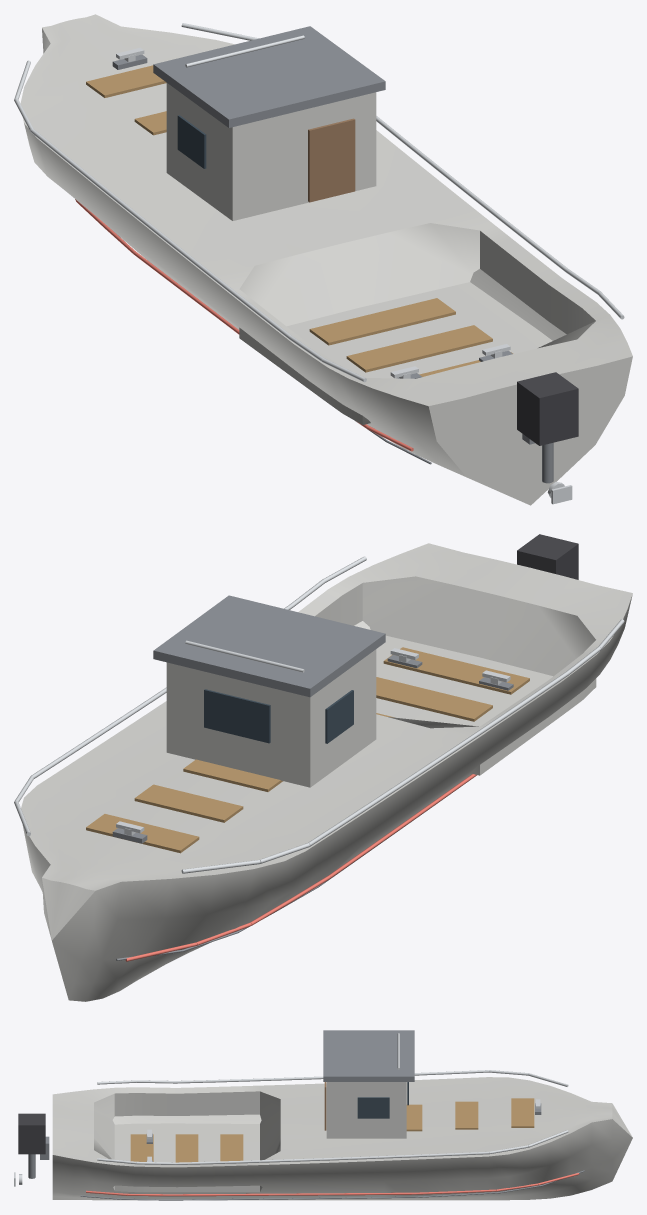
The model's file is FishingBoat.fbx.
The picture shows the model from 3 angles, top to bottom: view 1: azimuth 30°, elevation 25°; view 2: azimuth 150°, elevation 25°; view 3: azimuth 270°, elevation 25°; orthographic projection. The views are drawn at different scales.
Visible parts, largest first — view 1: LOD0; view 2: LOD0; view 3: LOD0.
Part boxes in pixels (bbox=[...]): LOD0: bbox=[14, 14, 632, 505]; LOD0: bbox=[14, 534, 632, 1001]; LOD0: bbox=[14, 1030, 632, 1200].
Size of what is drawn, in the model's own units: 172 by 145 by 542.
